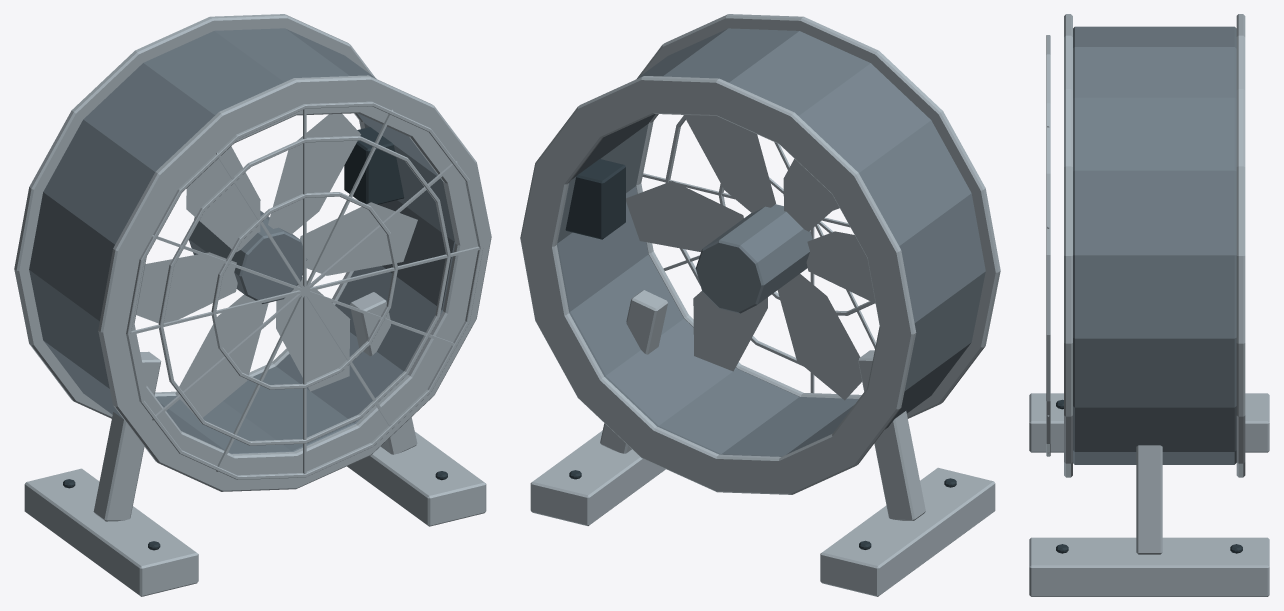
The model's file is b05_industrial_axial_exhaust_fan.glb.
3 views of the same model, side by side, from view 1: azimuth 30°, elevation 25°; view 2: azimuth 150°, elevation 25°; view 3: azimuth 270°, elevation 25° (orthographic). The views are drawn at different scales.
Parts seen in each view (by area): view 1: b05_industrial_axial_exhaust_fan; view 2: b05_industrial_axial_exhaust_fan; view 3: b05_industrial_axial_exhaust_fan.
Boxes of the visible parts, <box> form: b05_industrial_axial_exhaust_fan: <box>14,14,491,596</box>; b05_industrial_axial_exhaust_fan: <box>520,14,1000,596</box>; b05_industrial_axial_exhaust_fan: <box>1029,14,1269,596</box>.
Bounding box in the file's own units: 1.33 × 1.51 × 0.69.
